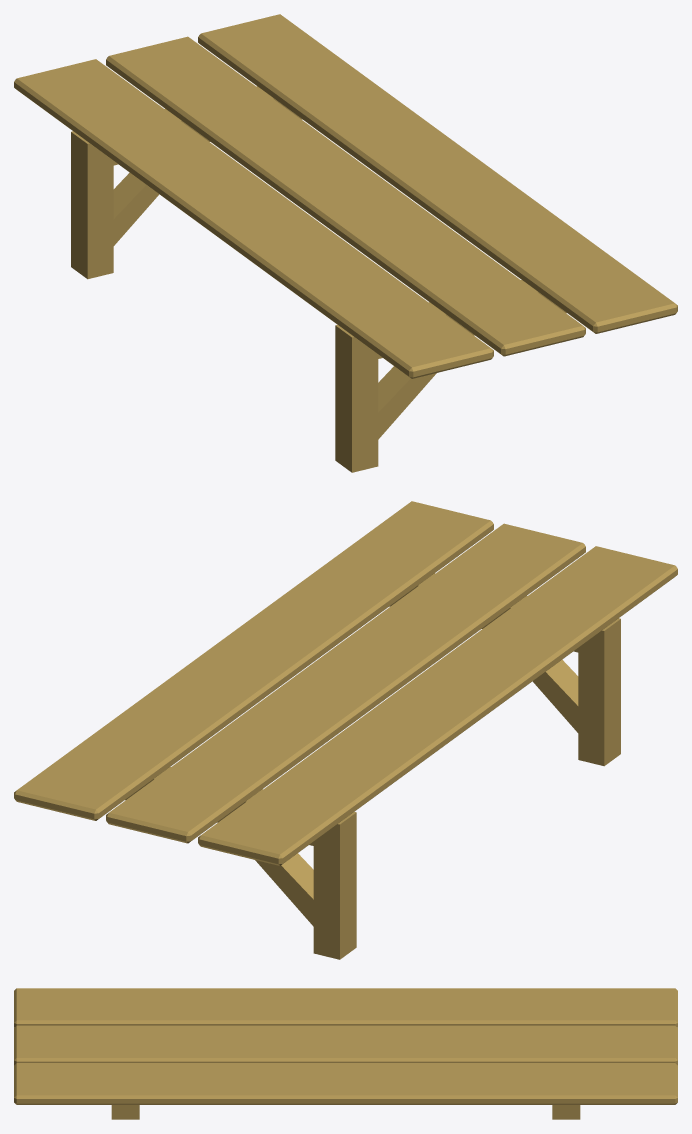
File: shelf.glb
3 views of the same model, one above another, from view 1: azimuth 30°, elevation 25°; view 2: azimuth 150°, elevation 25°; view 3: azimuth 270°, elevation 25° (orthographic). The views are drawn at different scales.
Visible parts, largest first — view 1: Cube.001; view 2: Cube.001; view 3: Cube.001.
Part boxes in pixels (x1,y1,x2,y2): Cube.001: [14, 14, 677, 472]; Cube.001: [14, 501, 677, 959]; Cube.001: [14, 988, 677, 1119].
Bounding box in the file's own units: 0.5363 × 0.2788 × 1.38.
